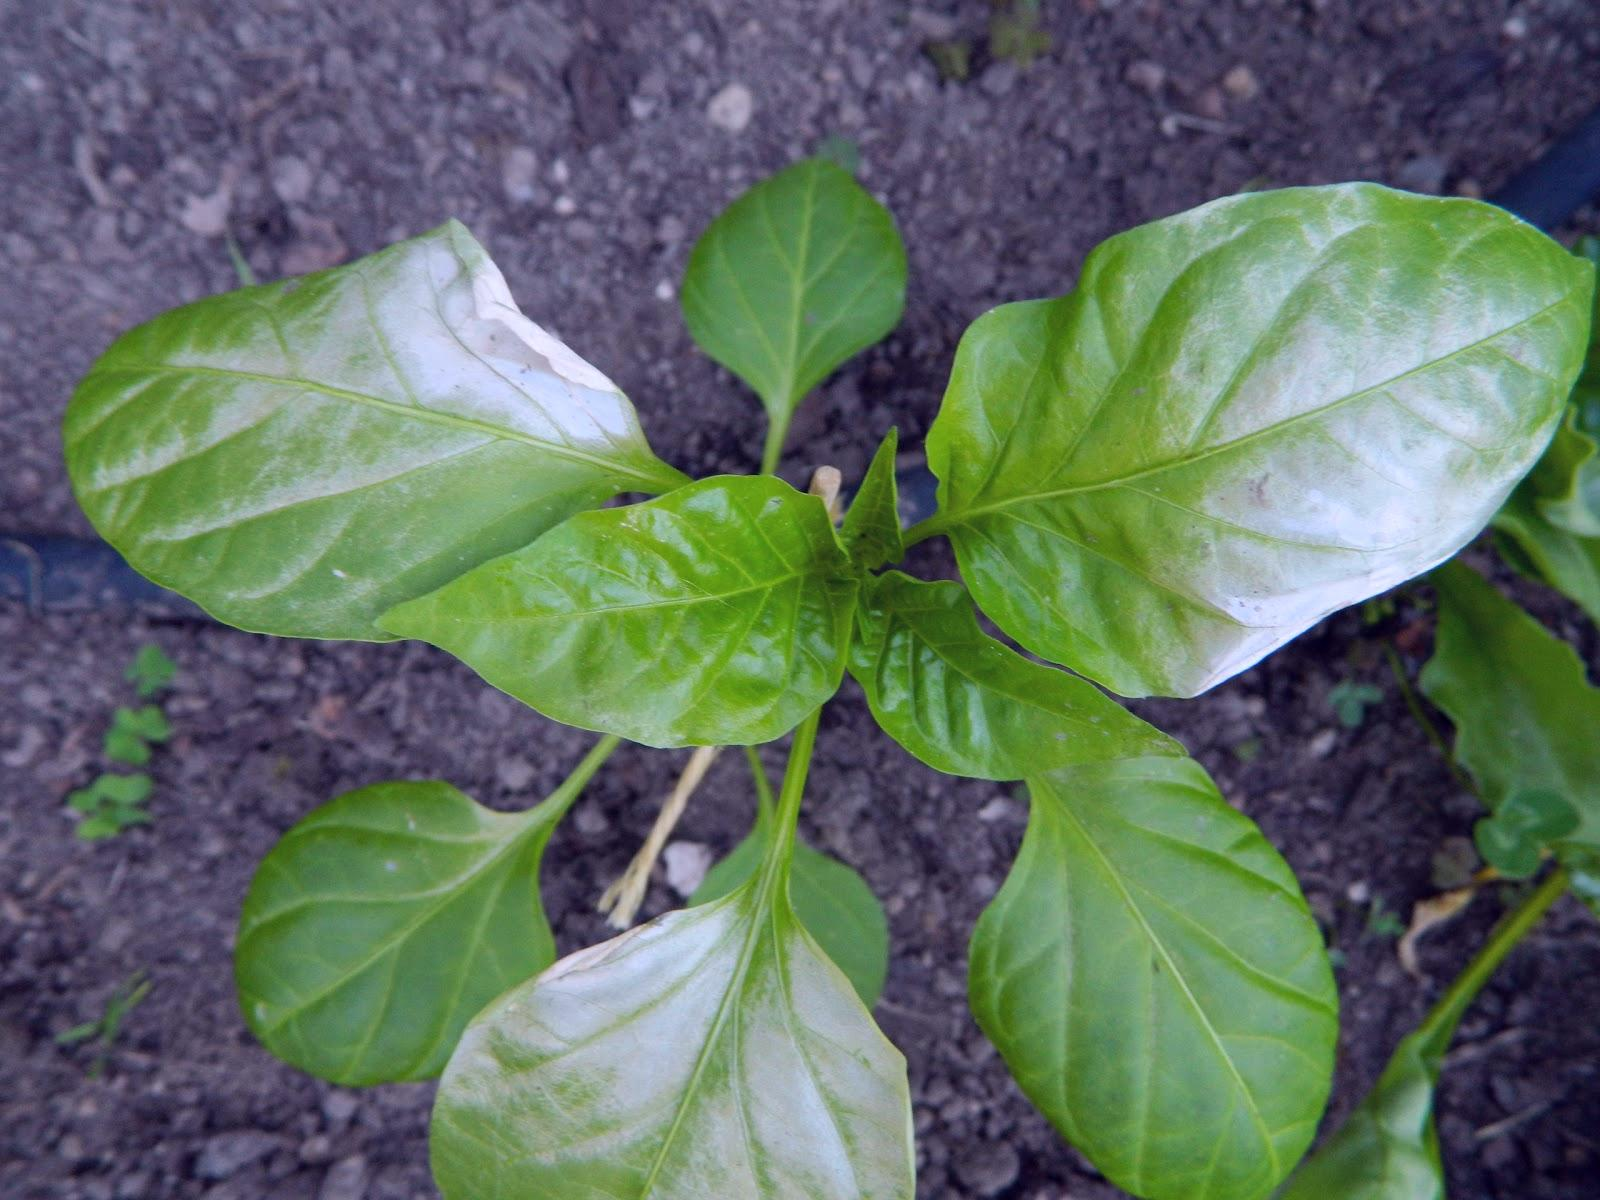Tomato leaf: (874, 603, 1374, 1200), (394, 481, 849, 756)
